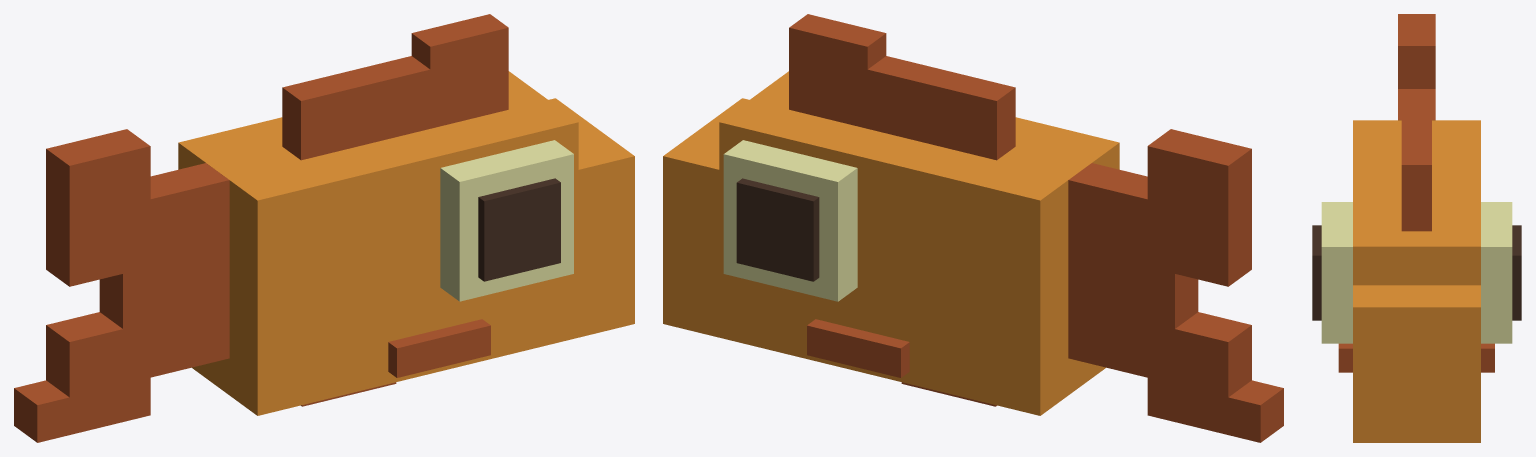
Rendered from Pes3_forever.fbx.
3 views of the same model, side by side, from view 1: azimuth 30°, elevation 25°; view 2: azimuth 150°, elevation 25°; view 3: azimuth 270°, elevation 25° (orthographic). The views are drawn at different scales.
Visible parts, largest first — view 1: peh; view 2: peh; view 3: peh.
Part boxes in pixels (x1,y1,x2,y2): peh: (14,14,634,442); peh: (663,14,1283,442); peh: (1312,14,1521,442).
Size of the model in its own units: 830 by 459 by 327.
